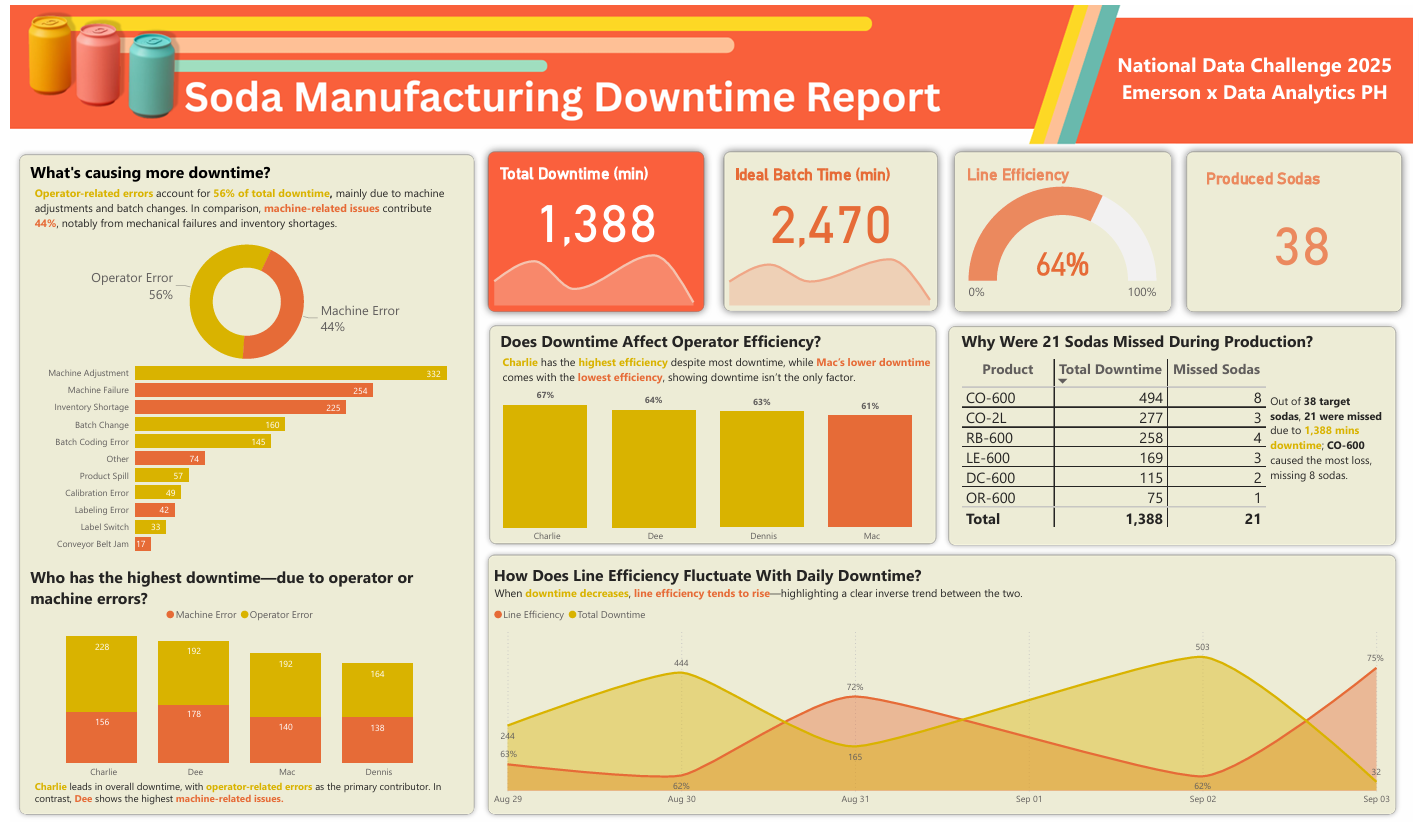

Layout of this report page (visuals, bound fields, positions):
{"tool":"powerbi","page":{"name":"Soda Manufacturing Downtime Dashboard","canvas":[1920,1120],"ordinal":0},"visuals":[{"type":"image","box":[0,0,1920,1120],"z":500},{"type":"shape","box":[650,743,1247,367],"z":1000},{"type":"shape","box":[646,192,316,240],"z":2000},{"type":"card","title":"Total Downtime (min)","fields":{"Values":["_Measures.Total Downtime"]},"box":[668.2,221.5,270,120.9],"z":3000},{"type":"shape","box":[14.3,200,631.4,910],"z":4000},{"type":"donutChart","title":"Operator Error","fields":{"Category":["DowntimeFactors.Operator Error"],"Y":["_Measures.Total Downtime"]},"box":[78.8,302.5,502.5,208.8],"z":5000},{"type":"textbox","box":[31.2,211.2,520,40],"z":6000},{"type":"textbox","box":[41,251,560,70],"z":7000},{"type":"shape","box":[965.6,192.2,313.3,238.9],"z":8000},{"type":"shape","box":[1275,433.3,621.7,311.7],"z":9000},{"type":"lineChart","fields":{"Category":["LineProductivity.Date"],"Y2":["_Measures.Total Downtime"],"Y":["_Measures.Line Efficiency"]},"box":[660,811.4,1225.7,288.6],"z":10000},{"type":"shape","box":[1278.9,192.2,316.7,240],"z":11000},{"type":"shape","box":[1594.4,192.2,314.4,240],"z":12000},{"type":"lineChart","fields":{"Y":["_Measures.Total Downtime"],"Category":["LineProductivity.Date"]},"box":[651.1,316.7,300,101.1],"z":13000},{"type":"card","title":" Ideal Batch Time (min) ","fields":{"Values":["_Measures.Total Minimum Batch Time (min)"]},"box":[986.7,221.7,270,120],"z":14000},{"type":"card","title":"Produced Sodas","fields":{"Values":["_Measures.Total Batches"]},"box":[1626.7,226.7,270,170],"z":15000},{"type":"lineChart","fields":{"Category":["LineProductivity.Date"],"Y":["_Measures.Total Minimum Batch Time (min)"]},"box":[970,321.1,302.2,96.7],"z":16000},{"type":"gauge","fields":{"Y":["_Measures.Line Efficiency"]},"box":[1301.7,221.7,270,193.3],"z":17000},{"type":"barChart","fields":{"Series":["DowntimeFactors.Operator Error"],"Y":["_Measures.Total Downtime"],"Category":["DowntimeFactors.Description"]},"box":[45.7,472.9,582.9,285.7],"z":18000},{"type":"textbox","box":[31.4,761.4,580,80],"z":19000},{"type":"textbox","box":[36.7,244.4,578.9,76.7],"z":20000},{"type":"textbox","box":[37,1050,590,50],"z":21000},{"type":"columnChart","fields":{"Category":["LineProductivity.Operator"],"Series":["DowntimeFactors.Operator Error"],"Y":["_Measures.Total Downtime"]},"box":[31,811,583,252],"z":22000},{"type":"shape","box":[651.7,431.7,621.7,311.7],"z":23000},{"type":"textbox","box":[668.6,440,460,40],"z":24000},{"type":"clusteredColumnChart","fields":{"Category":["LineProductivity.Operator"],"Y":["_Measures.Line Efficiency"]},"box":[615,511.2,686.2,231.2],"z":25000},{"type":"textbox","box":[672,473,603,87],"z":26000},{"type":"textbox","box":[660,758.3,600,40],"z":27000},{"type":"tableEx","fields":{"Values":["LineProductivity.Product","_Measures.Total Downtime","_Measures.Missed Sodas"]},"box":[1295,480,430,252.5],"z":28000},{"type":"textbox","box":[1295,440,600,40],"z":29000},{"type":"textbox","box":[1308.8,937.5,588.8,93.8],"z":30000},{"type":"textbox","box":[1500,62,396,98],"z":31000},{"type":"textbox","box":[661.4,787.1,818.6,87.1],"z":32000},{"type":"textbox","box":[1713.8,526.2,162.5,151.2],"z":33000}]}

Visuals, with their boxes in screenshot pixels (x1, y1, x2, y2), scaled from the page's 1920x1120 canvas onto the 1422x822 screenshot:
image: [left=0, top=0, right=1421, bottom=821]
shape: [left=481, top=545, right=1405, bottom=815]
shape: [left=478, top=141, right=712, bottom=317]
"Total Downtime (min)" card: [left=495, top=163, right=695, bottom=251]
shape: [left=11, top=147, right=478, bottom=815]
"Operator Error" donutChart: [left=58, top=222, right=431, bottom=375]
textbox: [left=23, top=155, right=408, bottom=184]
textbox: [left=30, top=184, right=445, bottom=236]
shape: [left=715, top=141, right=947, bottom=316]
shape: [left=944, top=318, right=1405, bottom=547]
lineChart - LineProductivity.Date x _Measures.Total Downtime: [left=489, top=596, right=1397, bottom=807]
shape: [left=947, top=141, right=1182, bottom=317]
shape: [left=1181, top=141, right=1414, bottom=317]
lineChart - _Measures.Total Downtime x LineProductivity.Date: [left=482, top=232, right=704, bottom=307]
" Ideal Batch Time (min) " card: [left=731, top=163, right=931, bottom=251]
"Produced Sodas" card: [left=1205, top=166, right=1405, bottom=291]
lineChart - LineProductivity.Date x _Measures.Total Minimum Batch Time (min): [left=718, top=236, right=942, bottom=307]
gauge - _Measures.Line Efficiency: [left=964, top=163, right=1164, bottom=305]
barChart - DowntimeFactors.Operator Error x _Measures.Total Downtime: [left=34, top=347, right=466, bottom=557]
textbox: [left=23, top=559, right=453, bottom=618]
textbox: [left=27, top=179, right=456, bottom=236]
textbox: [left=27, top=771, right=464, bottom=807]
columnChart - LineProductivity.Operator x DowntimeFactors.Operator Error: [left=23, top=595, right=455, bottom=780]
shape: [left=483, top=317, right=943, bottom=546]
textbox: [left=495, top=323, right=836, bottom=352]
clusteredColumnChart - LineProductivity.Operator x _Measures.Line Efficiency: [left=455, top=375, right=964, bottom=545]
textbox: [left=498, top=347, right=944, bottom=411]
textbox: [left=489, top=557, right=933, bottom=586]
tableEx - LineProductivity.Product x _Measures.Total Downtime: [left=959, top=352, right=1278, bottom=538]
textbox: [left=959, top=323, right=1403, bottom=352]
textbox: [left=969, top=688, right=1405, bottom=757]
textbox: [left=1111, top=46, right=1404, bottom=117]
textbox: [left=490, top=578, right=1096, bottom=642]
textbox: [left=1269, top=386, right=1390, bottom=497]
